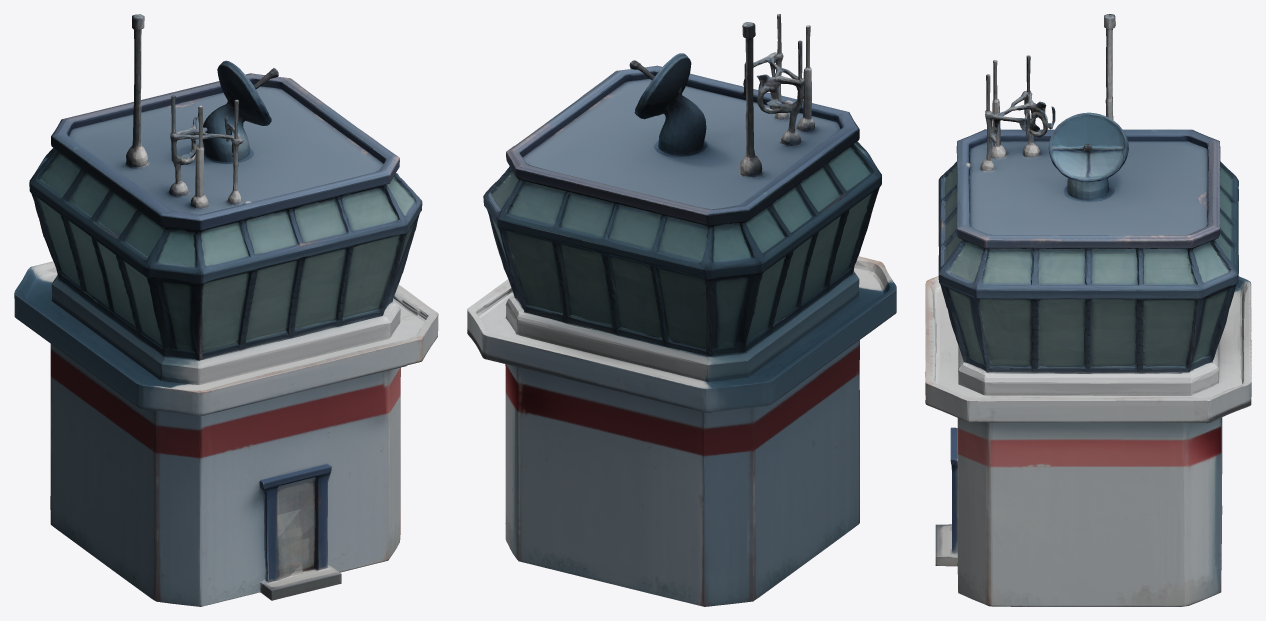
Rendered from control_tower.glb.
The picture shows the model from 3 angles, left to right: view 1: azimuth 30°, elevation 25°; view 2: azimuth 150°, elevation 25°; view 3: azimuth 270°, elevation 25°; orthographic projection. The views are drawn at different scales.
Parts seen in each view (by area): view 1: world; view 2: world; view 3: world.
Part boxes in pixels (x1,y1,x2,y2): world: [14, 14, 438, 606]; world: [467, 14, 896, 606]; world: [925, 14, 1251, 606].
Size of the model in its own units: 0.4147 by 0.7003 by 0.4153.
Materials: 1 (1 with a texture image).
